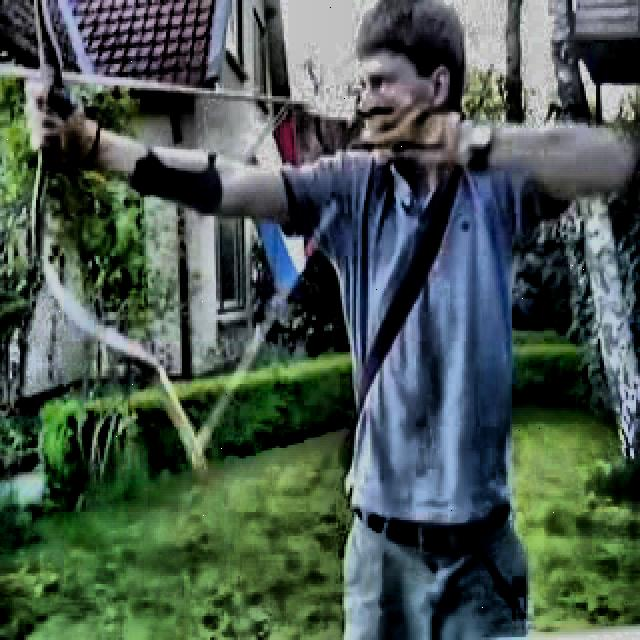P: (16, 0, 570, 640)
